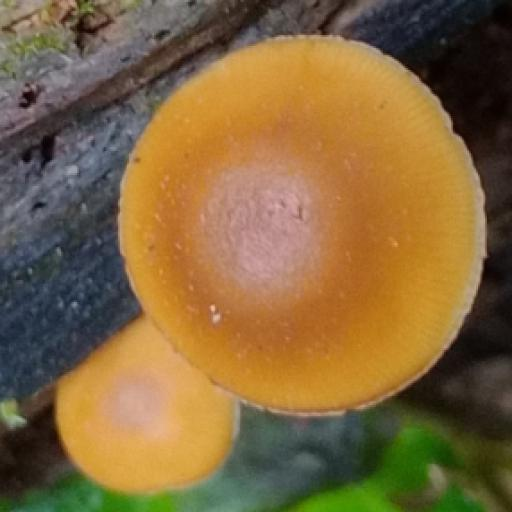mushroom: (113, 15, 489, 434)
